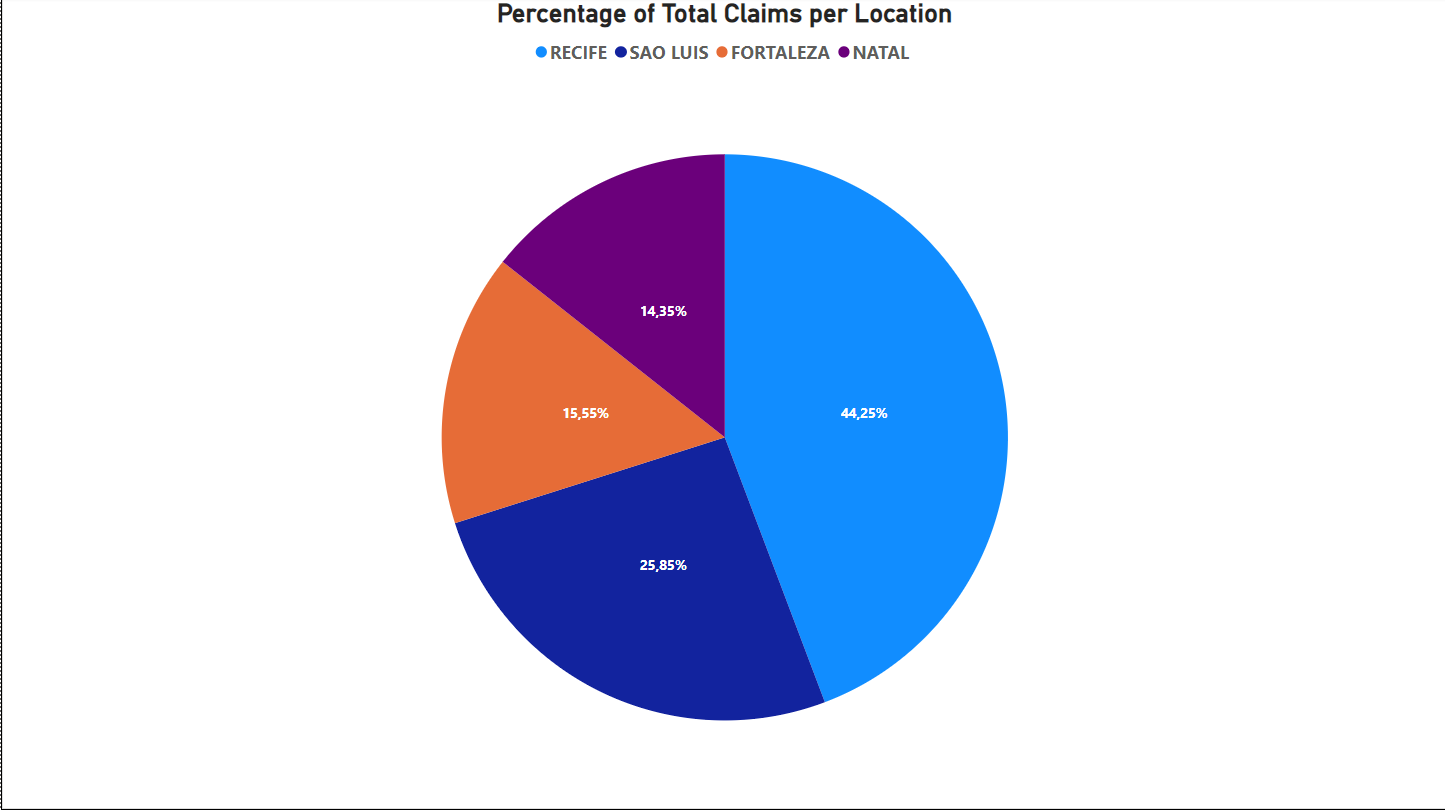

This screenshot's page, from the dashboard's own definition file:
{"tool":"powerbi","page":{"name":"Percentage of Total Claims per Location","canvas":[1280,720],"ordinal":3},"visuals":[{"type":"pieChart","title":"Percentage of Total Claims per Location","fields":{"Category":["food_claims_2212.location"],"Y":["Divide(CountNonNull(food_claims_2212.claim_id), ScopedEval(CountNonNull(food_claims_2212.claim_id), []))"]},"box":[0,0,1279.7,720],"z":0}]}

Visuals, with their boxes in screenshot pixels (x1, y1, x2, y2), scaled from the page's 1280x720 canvas onto the 1445x810 screenshot:
"Percentage of Total Claims per Location" pieChart: box=[0, 0, 1444, 809]
